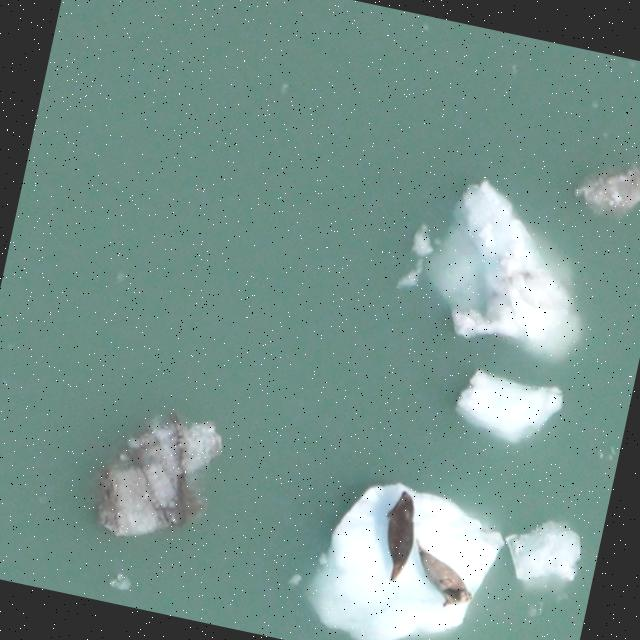seal: (394, 532, 487, 619), (367, 482, 429, 593)
